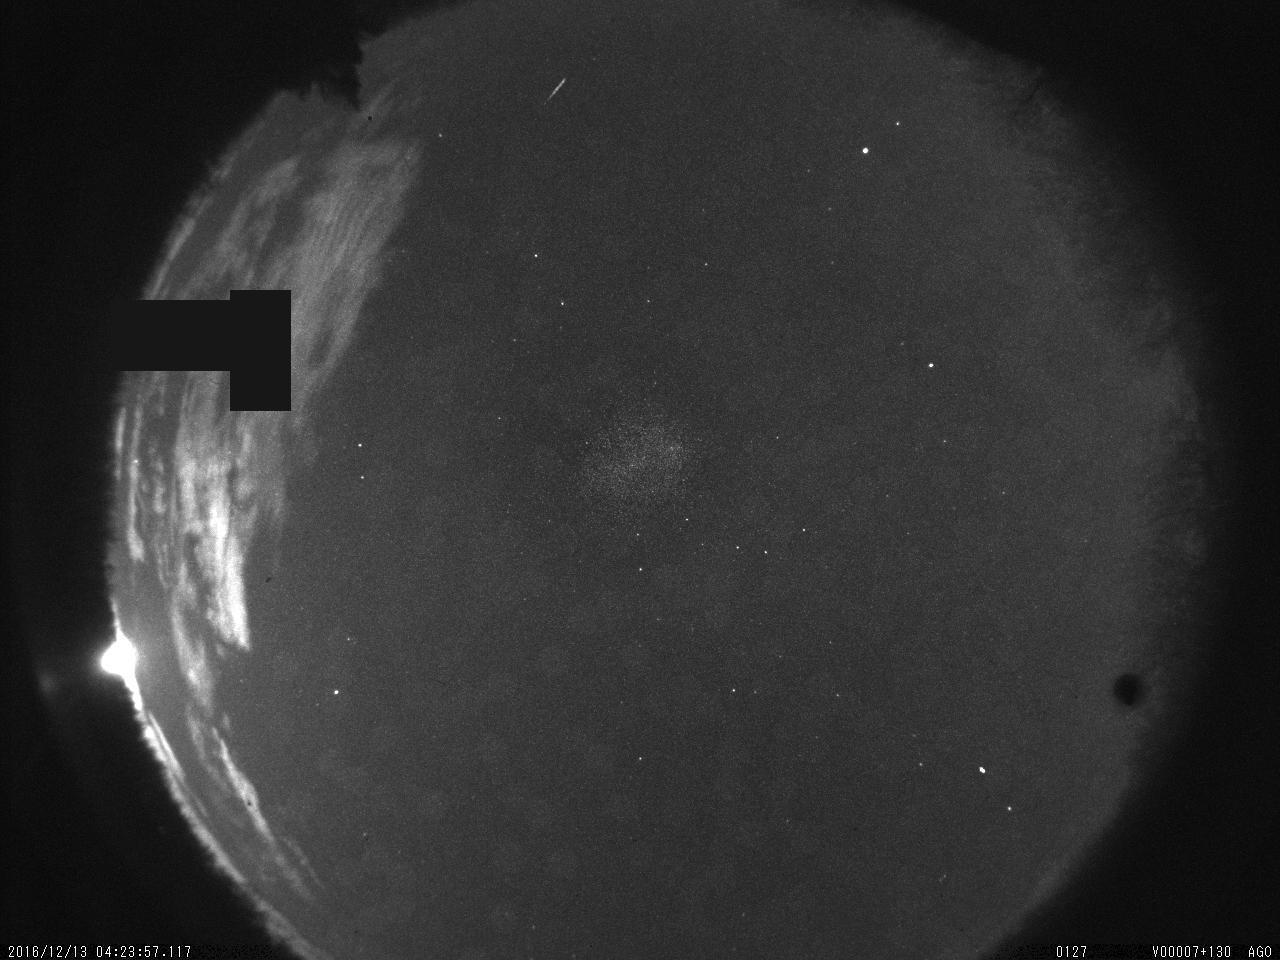meteor: (542, 73, 571, 104)
